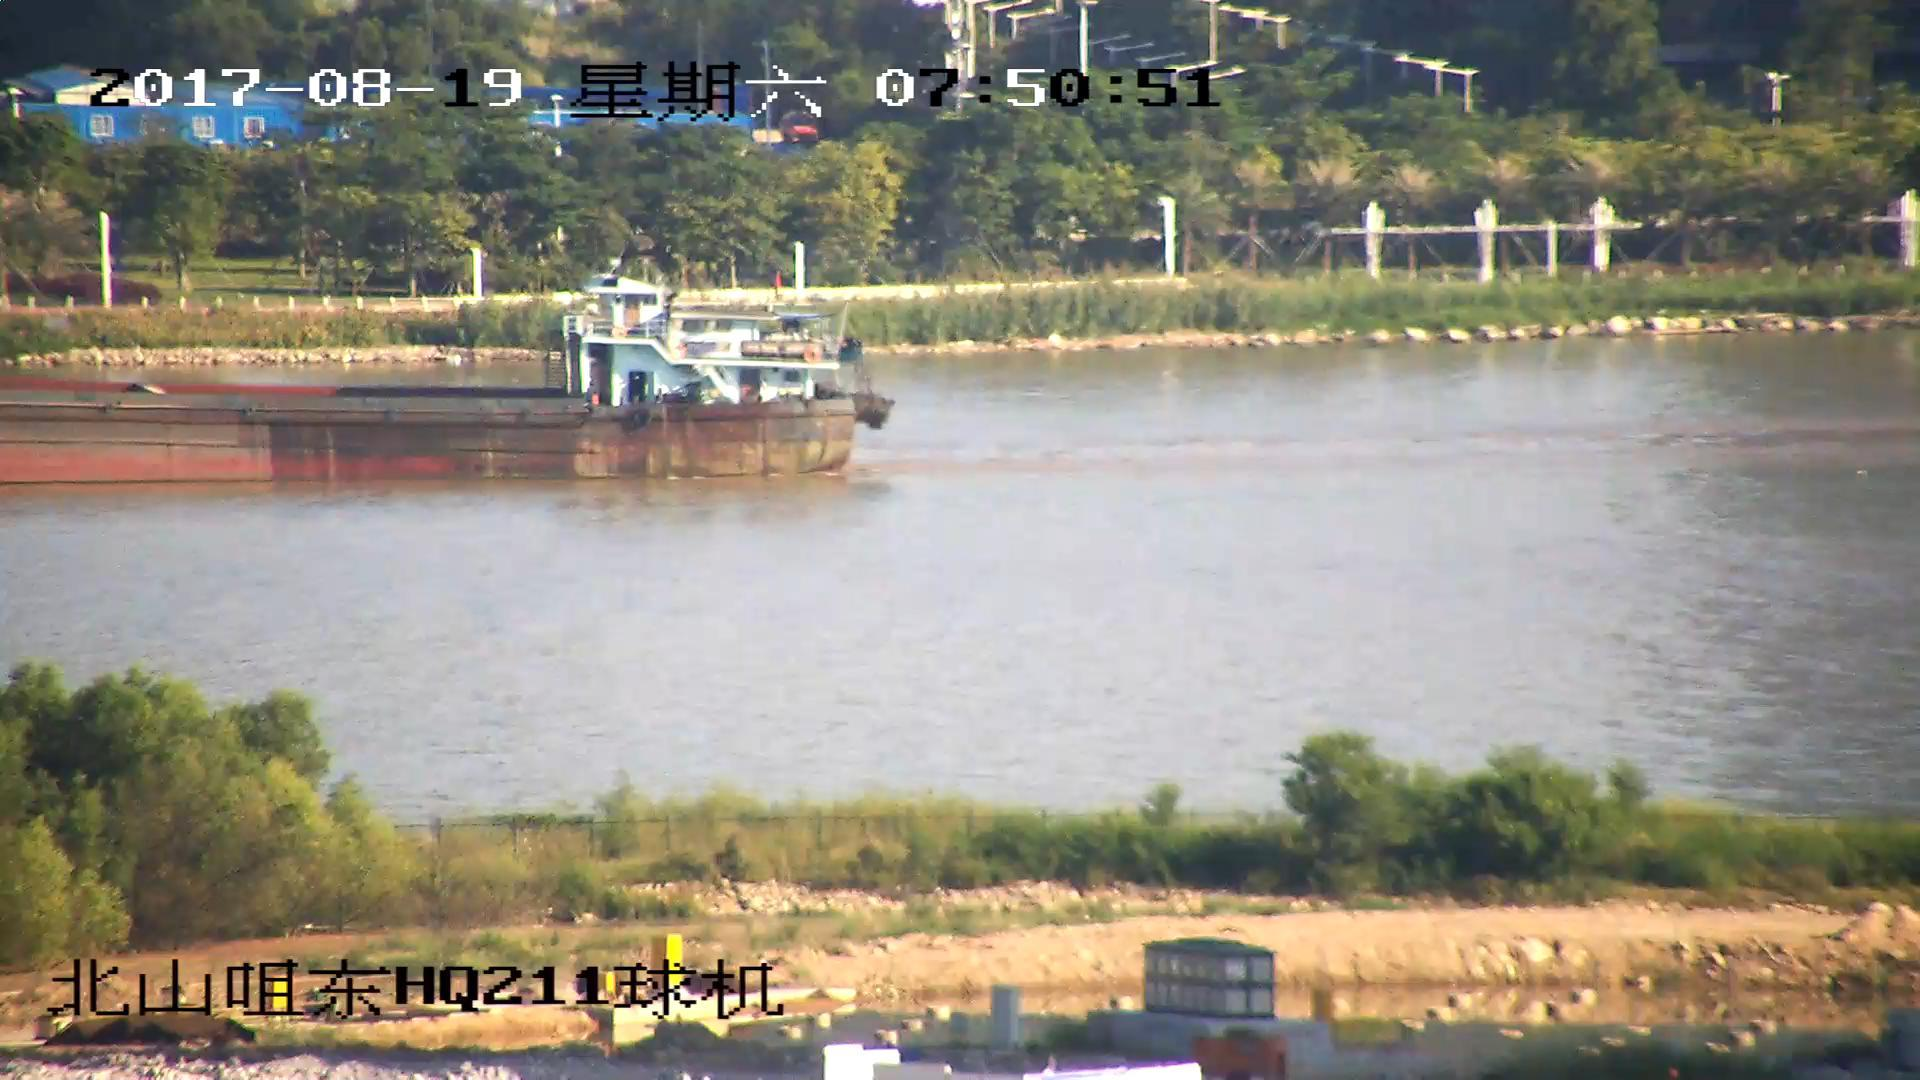Ship: (3, 276, 884, 485)
